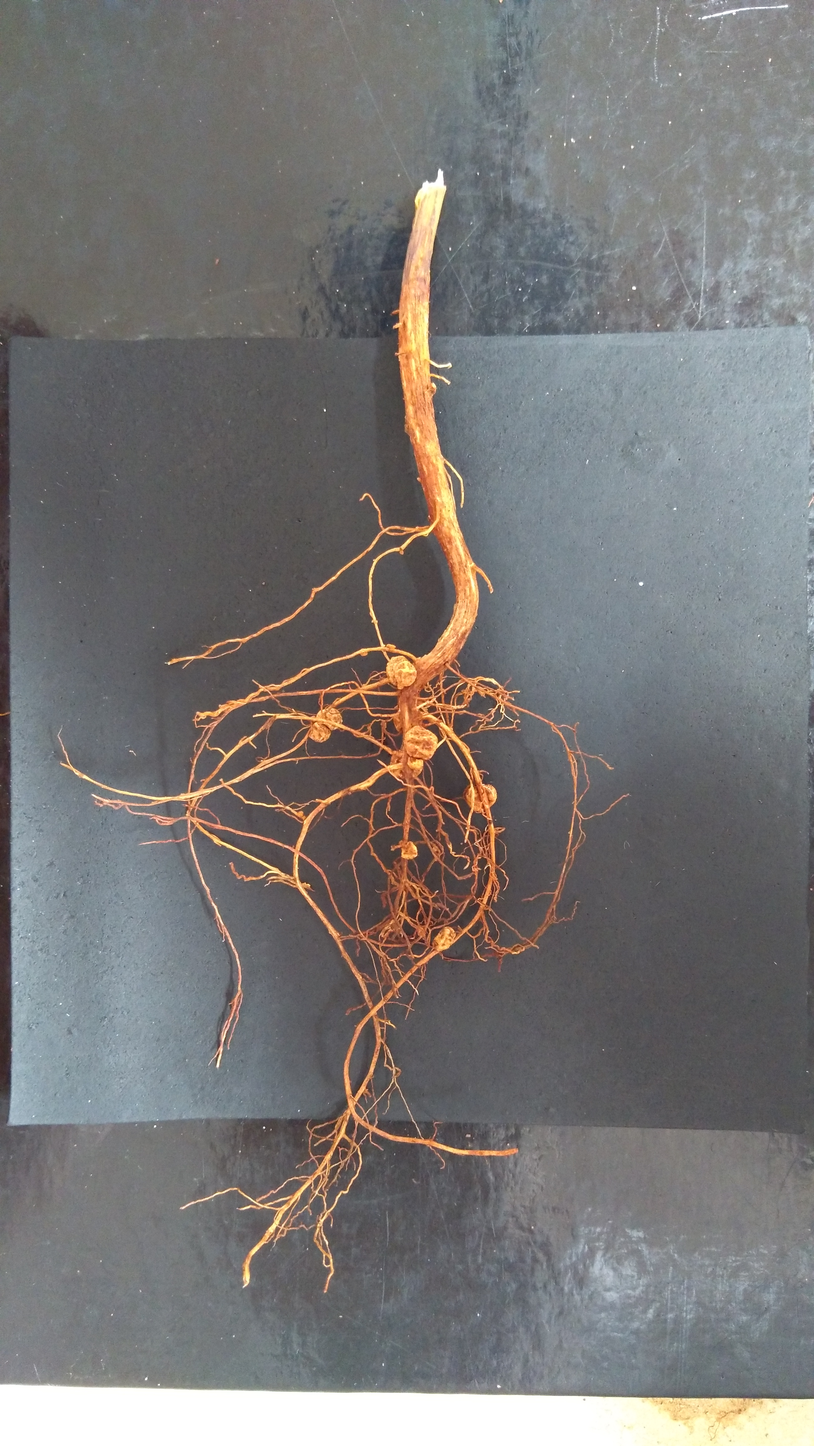nodule: (401, 723, 439, 761), (386, 747, 425, 781), (462, 782, 499, 815), (383, 654, 411, 686), (392, 708, 424, 733), (315, 706, 346, 731), (393, 659, 419, 688), (430, 925, 456, 953), (308, 720, 332, 745), (399, 840, 419, 862), (385, 642, 397, 650), (430, 381, 437, 394), (297, 810, 306, 820), (360, 648, 369, 657)
